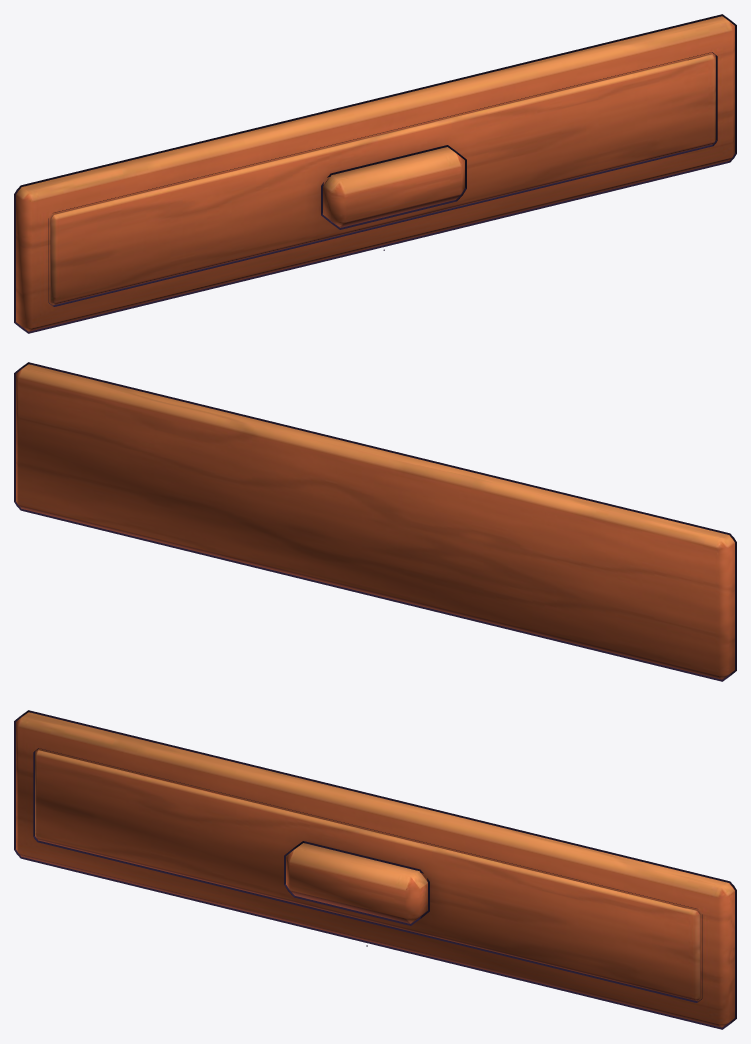
Rendered from DrawerFront.glb.
The picture shows the model from 3 angles, top to bottom: view 1: azimuth 30°, elevation 25°; view 2: azimuth 150°, elevation 25°; view 3: azimuth 330°, elevation 25°; orthographic projection.
Visible parts, largest first — view 1: DrawerFront, DrawerFront_Outline; view 2: DrawerFront, DrawerFront_Outline; view 3: DrawerFront, DrawerFront_Outline.
Boxes of the visible parts, left/top/right/bottom form: DrawerFront: left=16, top=16, right=734, bottom=331; DrawerFront_Outline: left=14, top=14, right=736, bottom=333; DrawerFront: left=16, top=364, right=734, bottom=679; DrawerFront_Outline: left=14, top=362, right=736, bottom=681; DrawerFront: left=16, top=712, right=734, bottom=1027; DrawerFront_Outline: left=14, top=710, right=736, bottom=1029.
Bounding box in the file's own units: 48.21 × 9.21 × 4.26.
2 materials, 2 textured.
